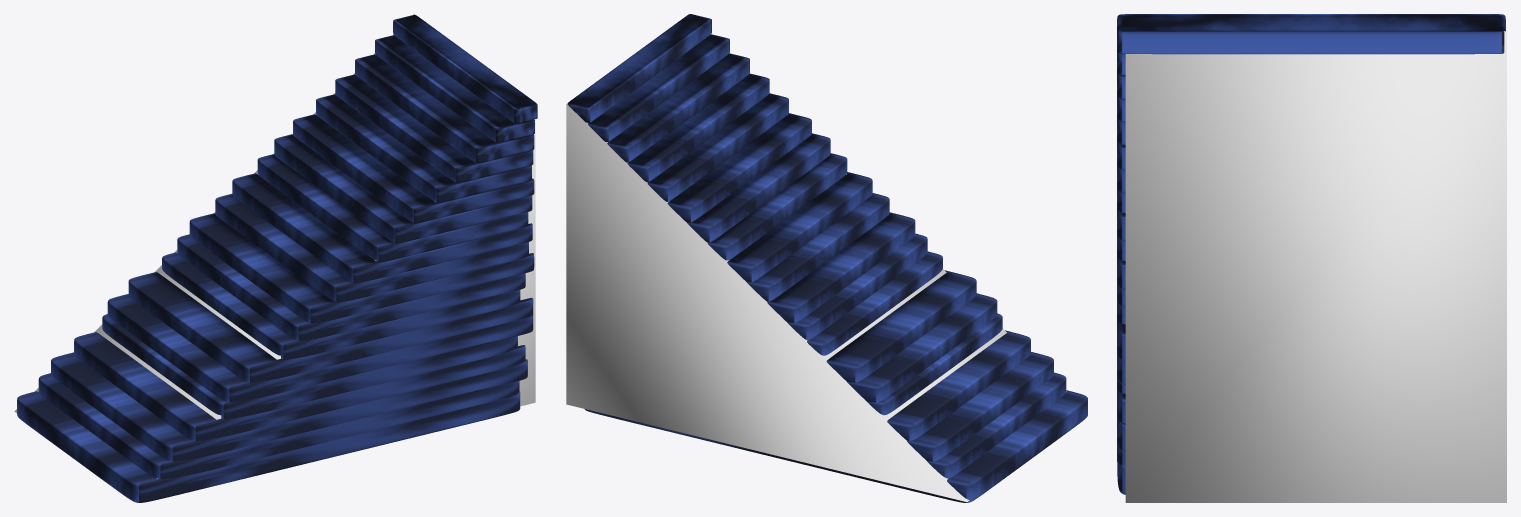
The model's file is StairsBlue2.fbx.
3 views of the same model, side by side, from view 1: azimuth 30°, elevation 25°; view 2: azimuth 150°, elevation 25°; view 3: azimuth 270°, elevation 25° (orthographic). The views are drawn at different scales.
Parts seen in each view (by area): view 1: Stairs, Stairs.001; view 2: Stairs, Stairs.001; view 3: Stairs.001, Stairs.
Boxes of the visible parts, x1,y1,x2,y2 form: Stairs: [17, 15, 537, 502]; Stairs.001: [14, 14, 535, 500]; Stairs: [567, 14, 1087, 502]; Stairs.001: [566, 103, 1088, 501]; Stairs.001: [1125, 31, 1506, 502]; Stairs: [1117, 14, 1505, 494].
Size of the model in its own units: 677 by 488 by 361.
1 material, 1 textured.
